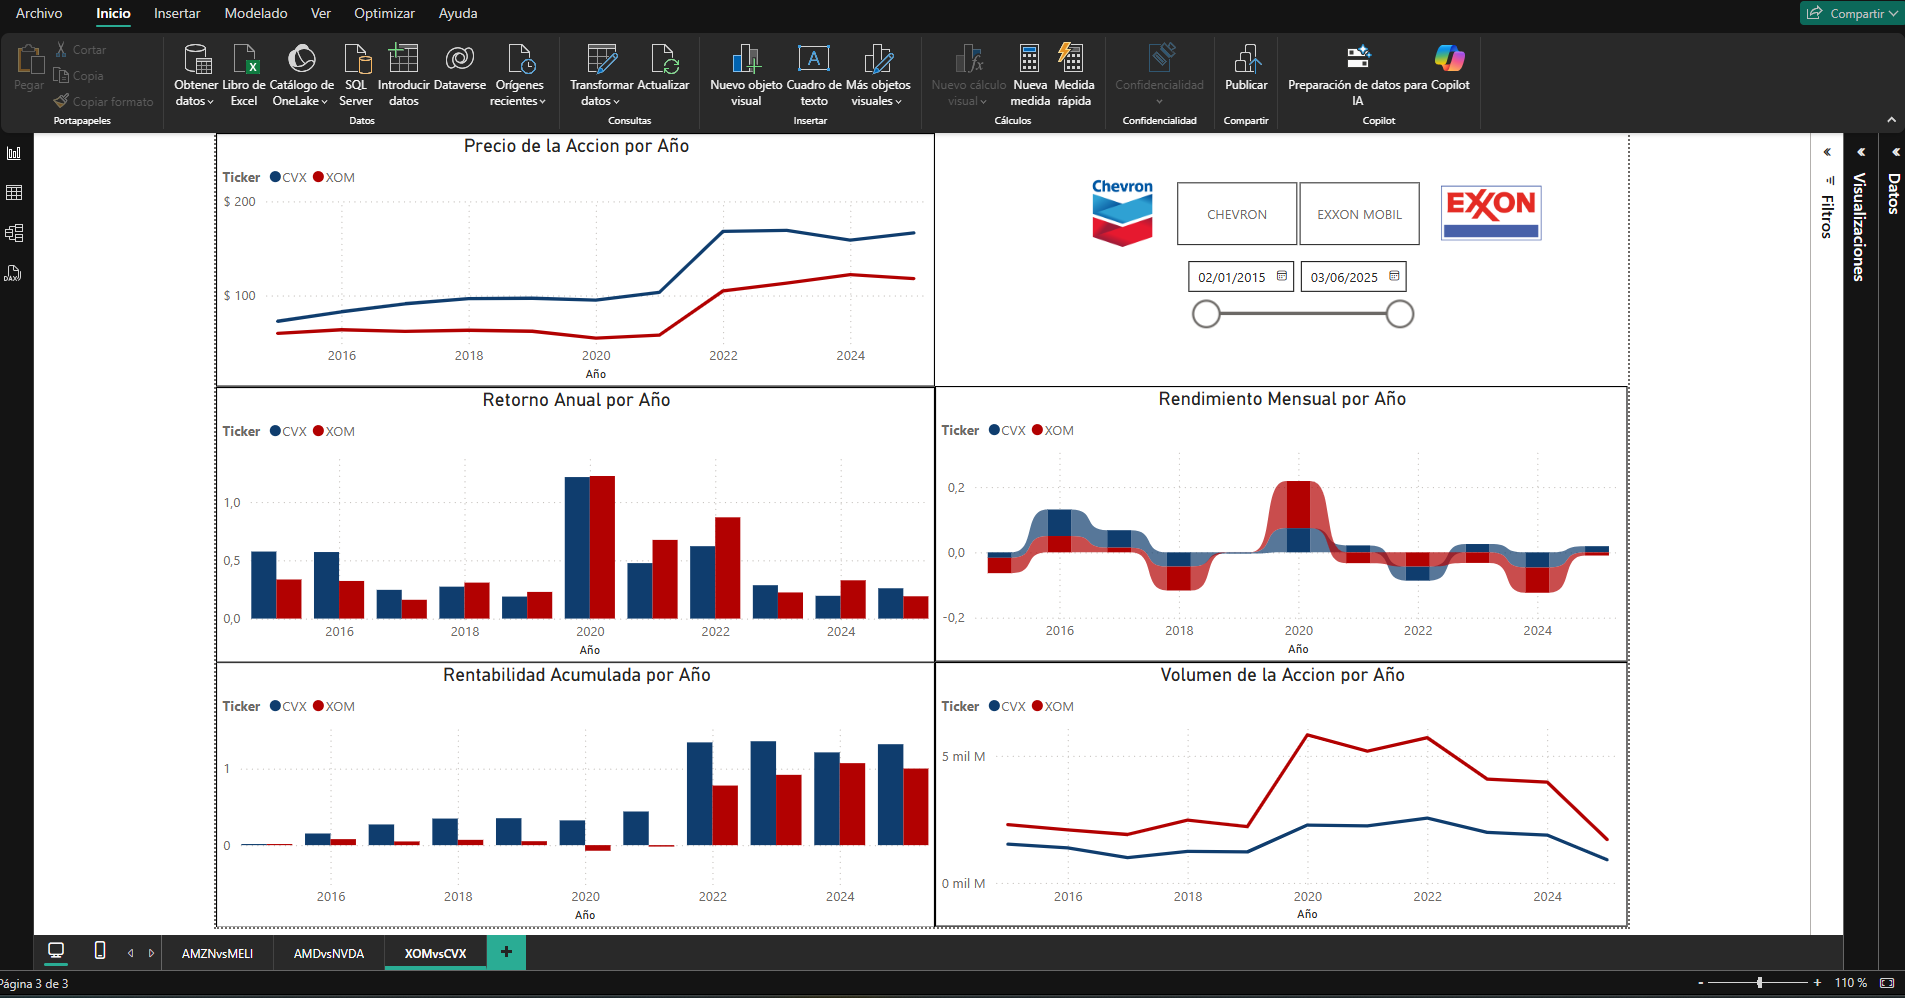

The dashboard page shown, as its layout file describes it:
{"tool":"powerbi","page":{"name":"XOMvsCVX","canvas":[1280,720],"ordinal":2},"visuals":[{"type":"lineChart","title":"Precio de la Accion por Año","fields":{"Category":["precios.Fecha Jerarquía.Año","precios.Fecha Jerarquía.Trimestre","precios.Fecha Jerarquía.Mes"],"Y":["precios.Precio Cierre Diario por Ticker"],"Series":["acciones.Ticker"]},"box":[0,0,651.8,230],"z":0},{"type":"ribbonChart","title":"Rendimiento Mensual por Año","fields":{"Category":["precios.Fecha Jerarquía.Año"],"Series":["acciones.Ticker"],"Y":["acciones.Rendimiento Mensual"]},"box":[652,229.8,628,250],"z":1000},{"type":"clusteredColumnChart","title":"Rentabilidad Acumulada por Año","fields":{"Category":["precios.Fecha Jerarquía.Año","precios.Fecha Jerarquía.Trimestre","precios.Fecha Jerarquía.Mes"],"Y":["precios.RentabilidadAcumulada"],"Series":["acciones.Ticker"]},"box":[0,479.7,652.4,240.7],"z":2000},{"type":"slicer","fields":{"Values":["acciones.Empresa"]},"box":[850.2,22.8,260,100.7],"z":3000},{"type":"clusteredColumnChart","title":"Retorno Anual por Año","fields":{"Category":["precios.Fecha Jerarquía.Año","precios.Fecha Jerarquía.Trimestre","precios.Fecha Jerarquía.Mes"],"Y":["precios.RetornoAnual"],"Series":["acciones.Ticker"]},"box":[0,230,652,250],"z":4000},{"type":"slicer","fields":{"Values":["precios.Fecha"]},"box":[868.9,105.9,225.3,85],"z":5000},{"type":"image","box":[749,14.5,146,117.9],"z":6000},{"type":"image","box":[1100.9,7.3,110.6,131.5],"z":7000},{"type":"lineChart","title":"Volumen de la Accion por Año","fields":{"Category":["precios.Fecha Jerarquía.Año","precios.Fecha Jerarquía.Trimestre","precios.Fecha Jerarquía.Mes"],"Y":["precios.VolumenTotal"],"Series":["acciones.Ticker"]},"box":[652,479.7,628.4,240.3],"z":8000}]}

Visuals, with their boxes on the page's 1280x720 design canvas (x1, y1, x2, y2). These are canvas units, not pixel positions in the 1905x998 screenshot, which may show the page scaled, cropped or inside an application window:
"Precio de la Accion por Año" lineChart: 0 0 652 230
"Rendimiento Mensual por Año" ribbonChart: 652 230 1280 480
"Rentabilidad Acumulada por Año" clusteredColumnChart: 0 480 652 720
slicer - acciones.Empresa: 850 23 1110 124
"Retorno Anual por Año" clusteredColumnChart: 0 230 652 480
slicer - precios.Fecha: 869 106 1094 191
image: 749 14 895 132
image: 1101 7 1212 139
"Volumen de la Accion por Año" lineChart: 652 480 1280 720
